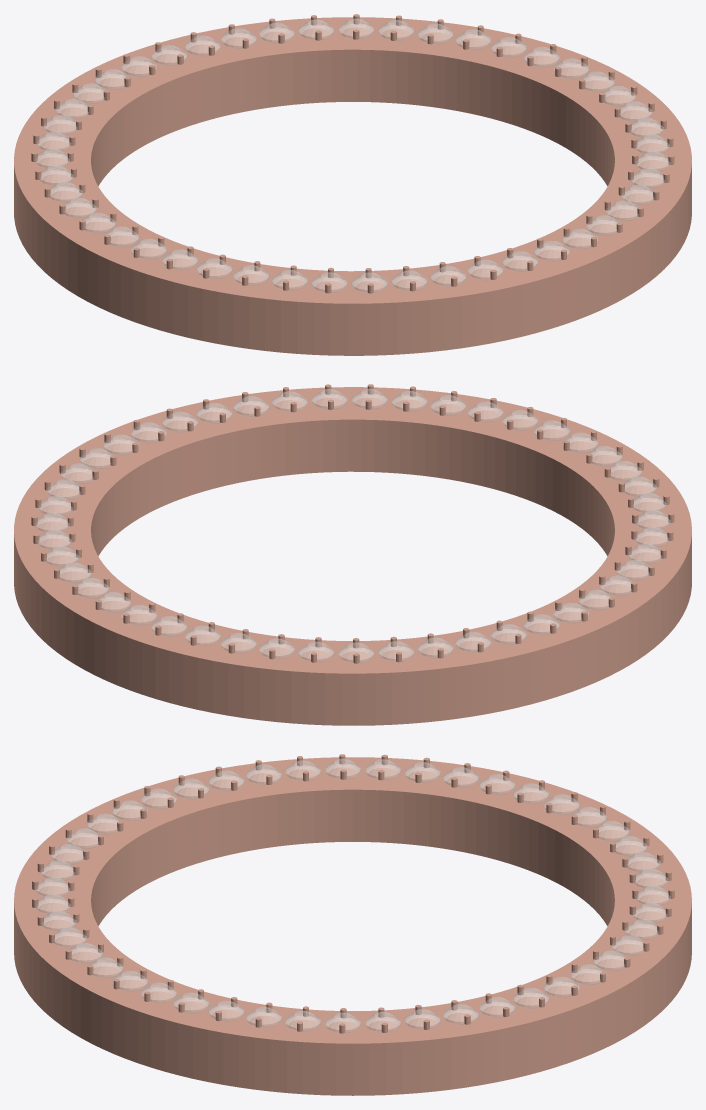
File: bezel-diamond-rose-gold-34.glb
3 renders of one model, top to bottom at view 1: azimuth 30°, elevation 25°; view 2: azimuth 150°, elevation 25°; view 3: azimuth 270°, elevation 25°, orthographic.
Visible parts, largest first — view 1: DD_BEZEL_CARRIER_ROSE_GOLD, DD_DIAMOND_019, DD_DIAMOND_036, DD_DIAMOND_021, DD_DIAMOND_020, DD_DIAMOND_037, DD_DIAMOND_010, DD_DIAMOND_018, DD_DIAMOND_035, DD_DIAMOND_045, DD_DIAMOND_000, DD_DIAMOND_008 (+18 smaller); view 2: DD_BEZEL_CARRIER_ROSE_GOLD, DD_DIAMOND_034, DD_DIAMOND_001, DD_DIAMOND_037, DD_DIAMOND_036, DD_DIAMOND_002, DD_DIAMOND_004, DD_DIAMOND_014, DD_DIAMOND_035, DD_DIAMOND_013, DD_DIAMOND_005, DD_DIAMOND_024 (+20 smaller); view 3: DD_BEZEL_CARRIER_ROSE_GOLD, DD_DIAMOND_003, DD_DIAMOND_020, DD_DIAMOND_017, DD_DIAMOND_041, DD_DIAMOND_005, DD_DIAMOND_002, DD_DIAMOND_004, DD_DIAMOND_019, DD_DIAMOND_030, DD_DIAMOND_042, DD_DIAMOND_016 (+10 smaller).
Part boxes in pixels (box(x1,y1,x2,y2)): DD_BEZEL_CARRIER_ROSE_GOLD: box(14, 17, 691, 355); DD_DIAMOND_019: box(606, 200, 639, 220); DD_DIAMOND_036: box(64, 198, 96, 218); DD_DIAMOND_021: box(562, 228, 598, 249); DD_DIAMOND_020: box(586, 215, 620, 235); DD_DIAMOND_037: box(49, 182, 82, 202); DD_DIAMOND_010: box(553, 58, 589, 78); DD_DIAMOND_018: box(621, 184, 654, 205); DD_DIAMOND_035: box(82, 213, 115, 233); DD_DIAMOND_045: box(121, 56, 157, 76); DD_DIAMOND_000: box(184, 35, 220, 56); DD_DIAMOND_008: box(491, 37, 526, 57); DD_BEZEL_CARRIER_ROSE_GOLD: box(14, 387, 691, 725); DD_DIAMOND_034: box(616, 560, 649, 580); DD_DIAMOND_001: box(151, 616, 187, 636); DD_DIAMOND_037: box(553, 603, 589, 623); DD_DIAMOND_036: box(579, 589, 614, 610); DD_DIAMOND_002: box(121, 605, 157, 625); DD_DIAMOND_004: box(75, 578, 108, 598); DD_DIAMOND_014: box(131, 422, 166, 442); DD_DIAMOND_035: box(600, 575, 633, 595); DD_DIAMOND_013: box(103, 434, 139, 455); DD_DIAMOND_005: box(59, 562, 91, 582); DD_DIAMOND_024: box(502, 410, 538, 430); DD_BEZEL_CARRIER_ROSE_GOLD: box(14, 757, 691, 1095); DD_DIAMOND_003: box(611, 935, 644, 955); DD_DIAMOND_020: box(69, 943, 102, 963); DD_DIAMOND_017: box(141, 982, 176, 1003); DD_DIAMOND_041: box(543, 794, 579, 814); DD_DIAMOND_005: box(570, 964, 606, 984); DD_DIAMOND_002: box(624, 919, 658, 939); DD_DIAMOND_004: box(593, 950, 626, 970); DD_DIAMOND_019: box(89, 957, 123, 977); DD_DIAMOND_030: box(141, 788, 176, 809); DD_DIAMOND_042: box(570, 807, 606, 827); DD_DIAMOND_016: box(173, 992, 209, 1013).
Size of the model in its own units: 33 by 3.4 by 33.
